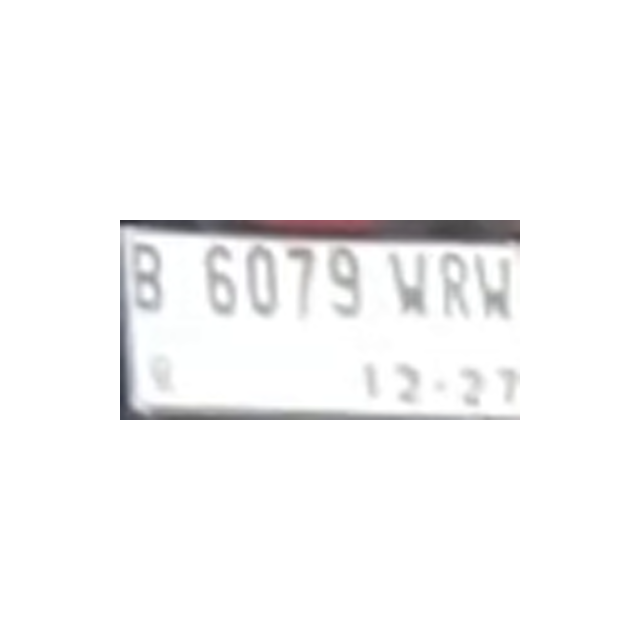contain: (386, 246, 431, 325), (428, 248, 473, 327), (471, 246, 516, 325), (131, 238, 169, 319), (201, 241, 239, 322), (242, 242, 280, 323), (282, 244, 320, 325), (325, 245, 363, 326)
